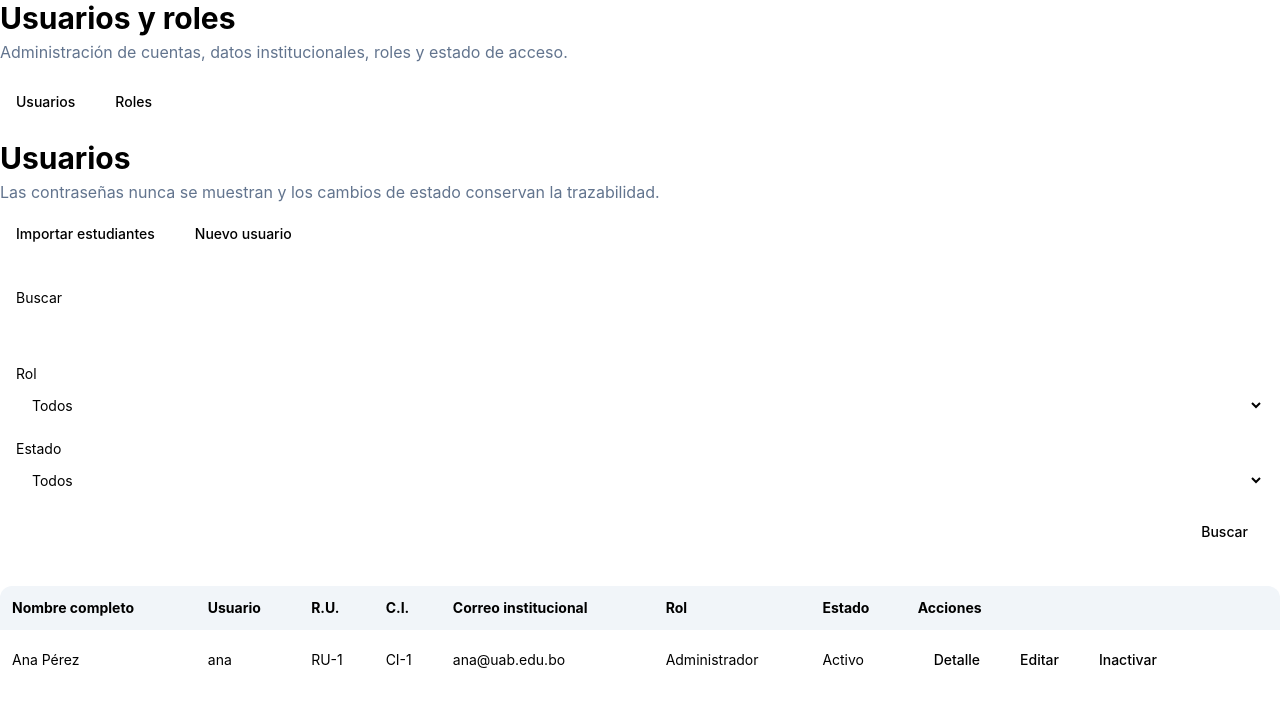
Test: pone staff en false inmediatamente al cambiar de ADMINISTRADOR a DOCENTE
Later steps or results of the test are not shown.
Expected: the text "Ana Pérez" is shown, [0, 630, 196, 690]
Click the button "Editar": (1040,660) [1004, 642, 1075, 678]
(page scrolled)
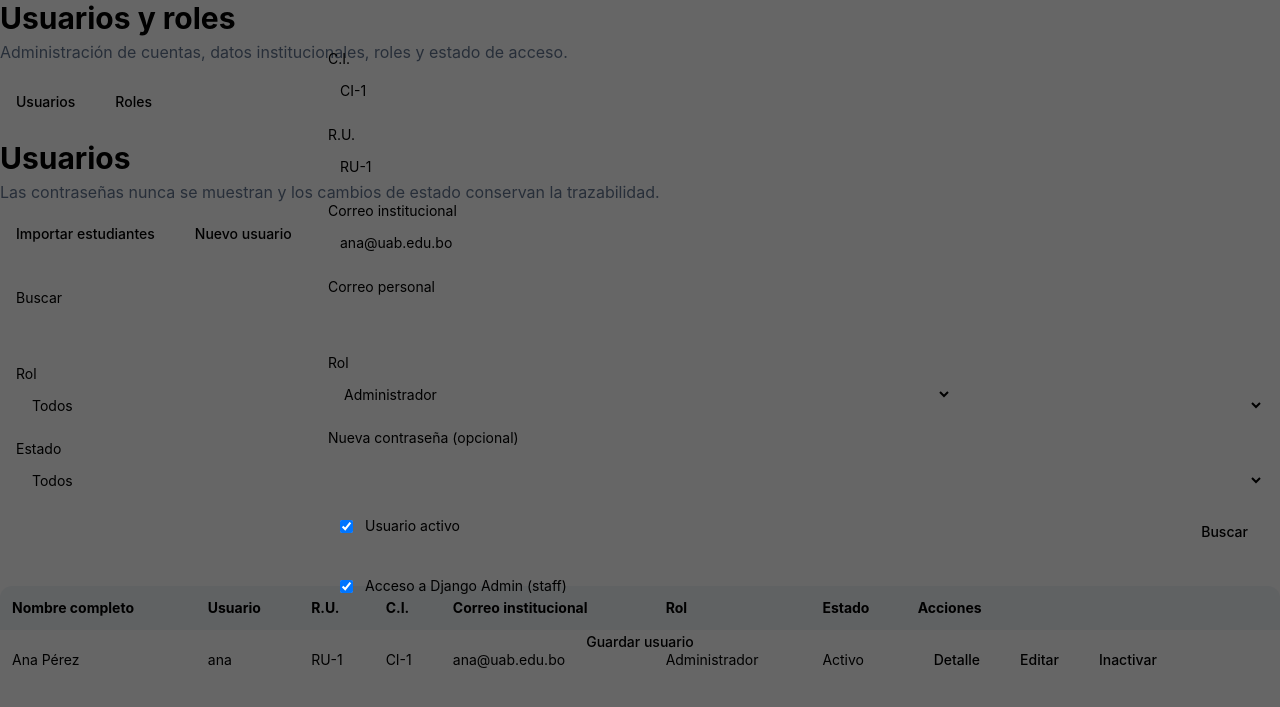
Select "Docente" in the dropdown labelled "Rol": (640,394) [328, 377, 952, 412]
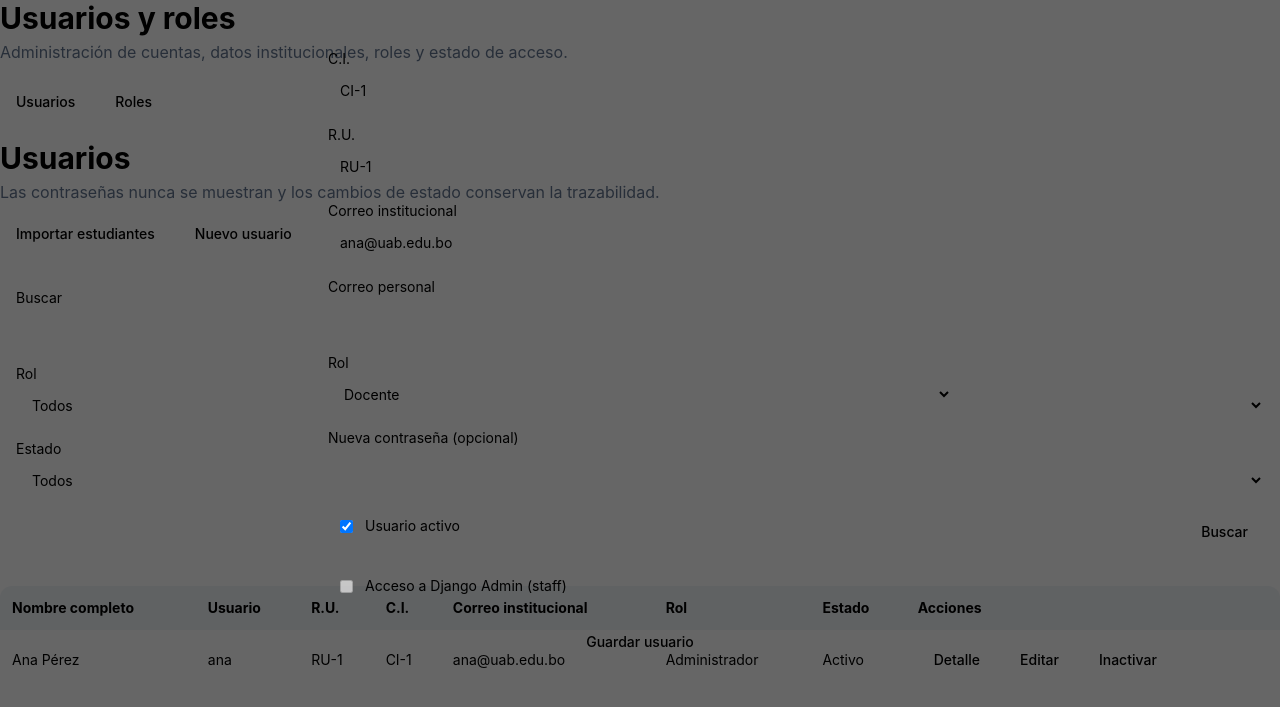
Result: the checkbox labelled "Acceso a Django Admin (staff)" is not checked at [340, 580, 353, 592]
Result: the checkbox labelled "Acceso a Django Admin (staff)" is disabled at [340, 580, 353, 592]
